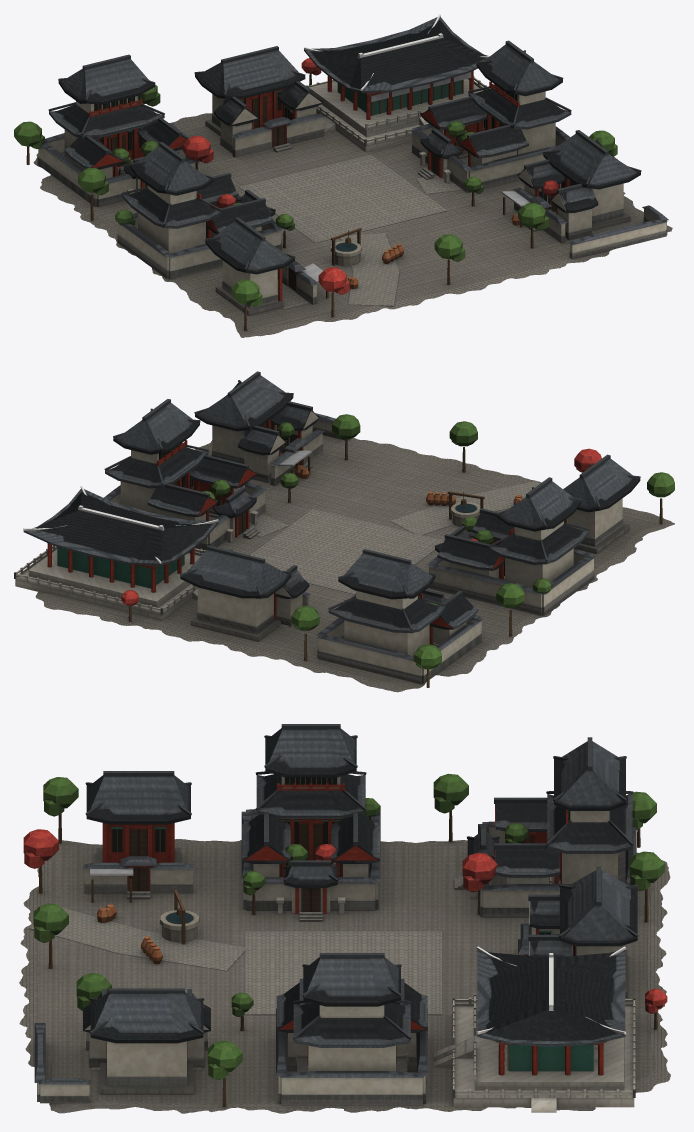
The model's file is kingdoms-town-small-b-korea-0526baf9.glb.
3 views of the same model, one above another, from view 1: azimuth 30°, elevation 25°; view 2: azimuth 150°, elevation 25°; view 3: azimuth 270°, elevation 25° (orthographic). The views are drawn at different scales.
Parts seen in each view (by area): view 1: LOD0; view 2: LOD0; view 3: LOD0.
Part boxes in pixels (left/top/right/bottom): LOD0: left=14, top=14, right=672, bottom=337; LOD0: left=14, top=371, right=674, bottom=692; LOD0: left=19, top=724, right=670, bottom=1113.
Size of what is drawn, in the model's own units: 4.04 by 0.9213 by 4.06.
3 materials, 3 textured.
